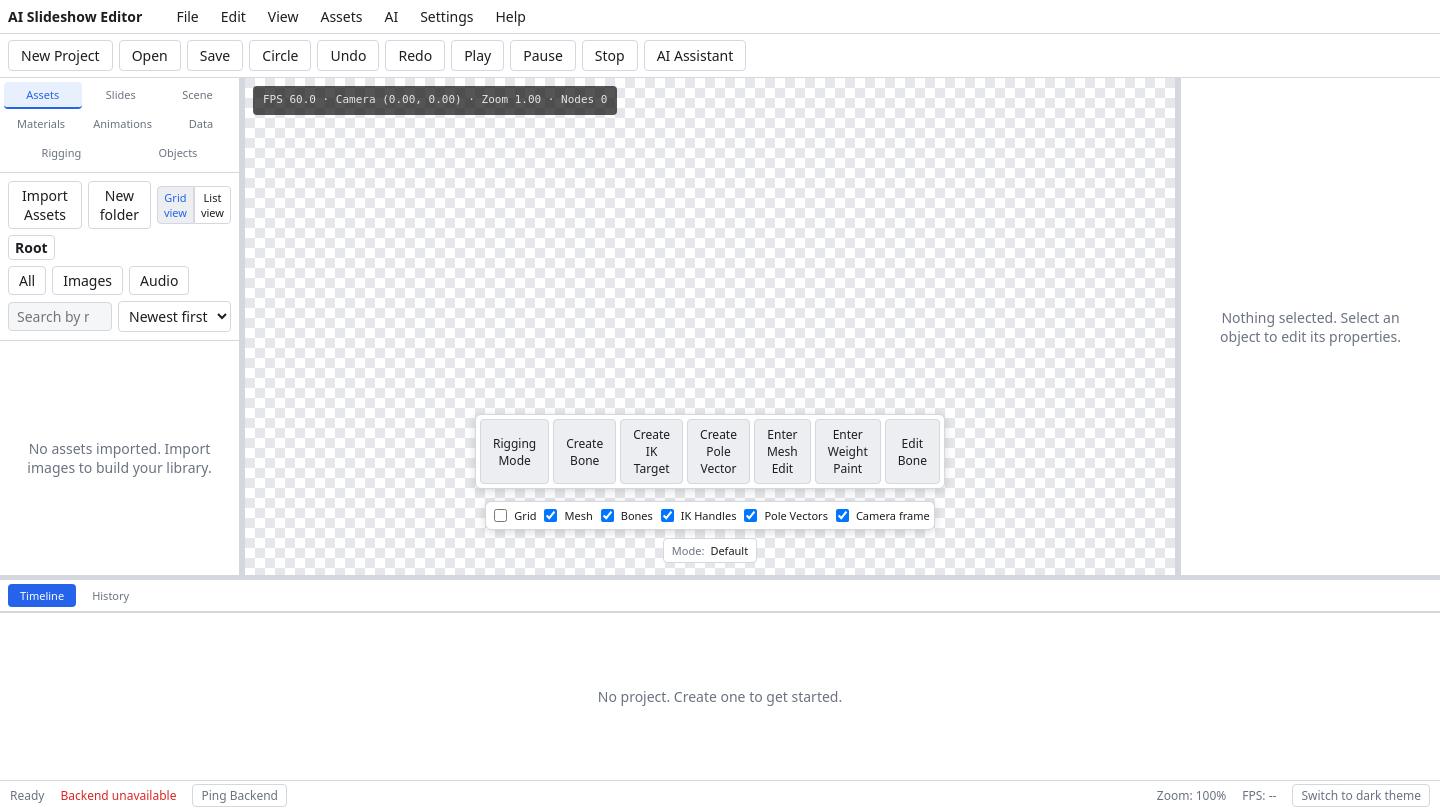
editor shell › hides the debug panel by default and toggles it from the Settings menu
The width and height of the screenshot is (1440, 810).
Click the button "Settings". click: (447, 16)
box: [410, 4, 484, 29]
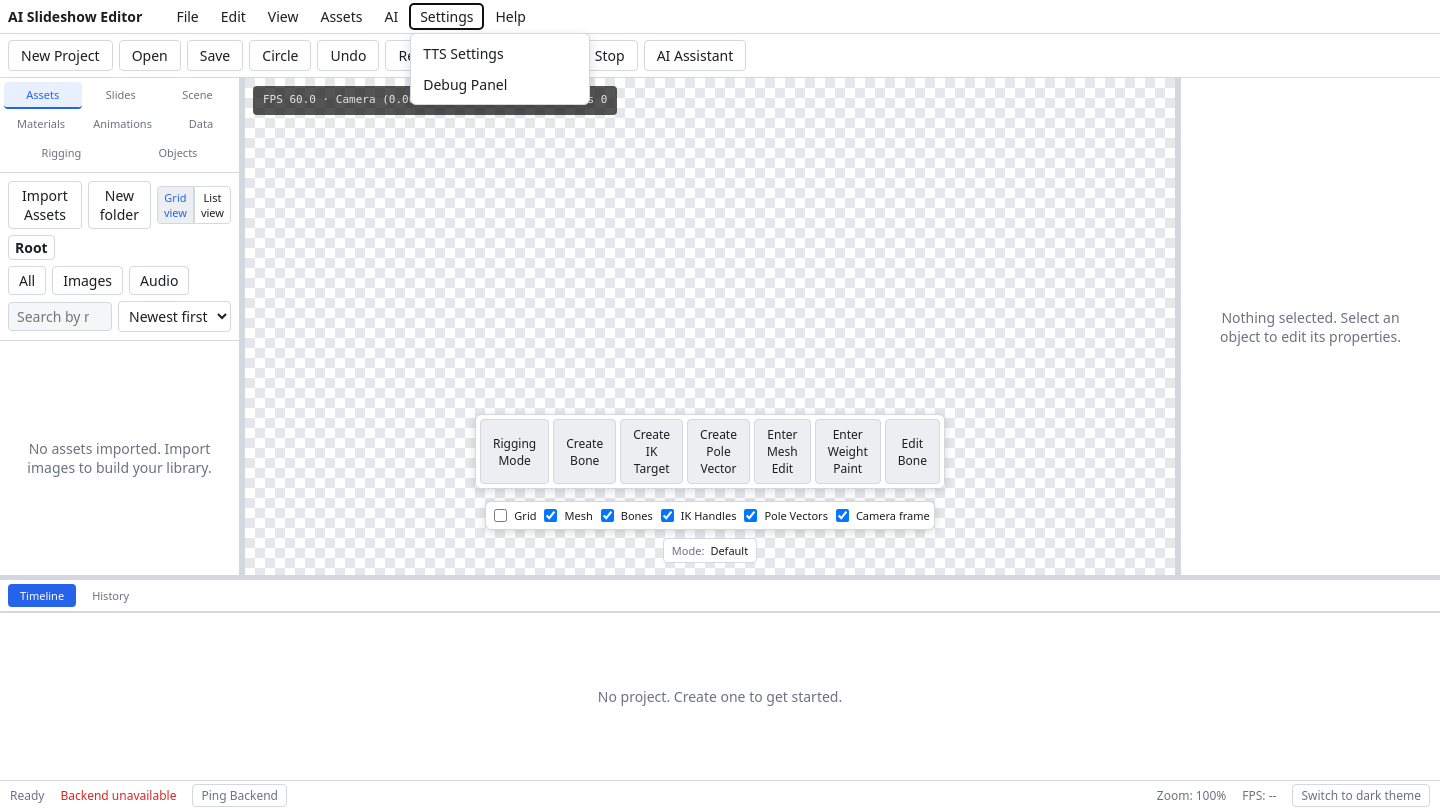
Click the menu item "Debug Panel". click: (500, 84)
box: [411, 69, 589, 100]
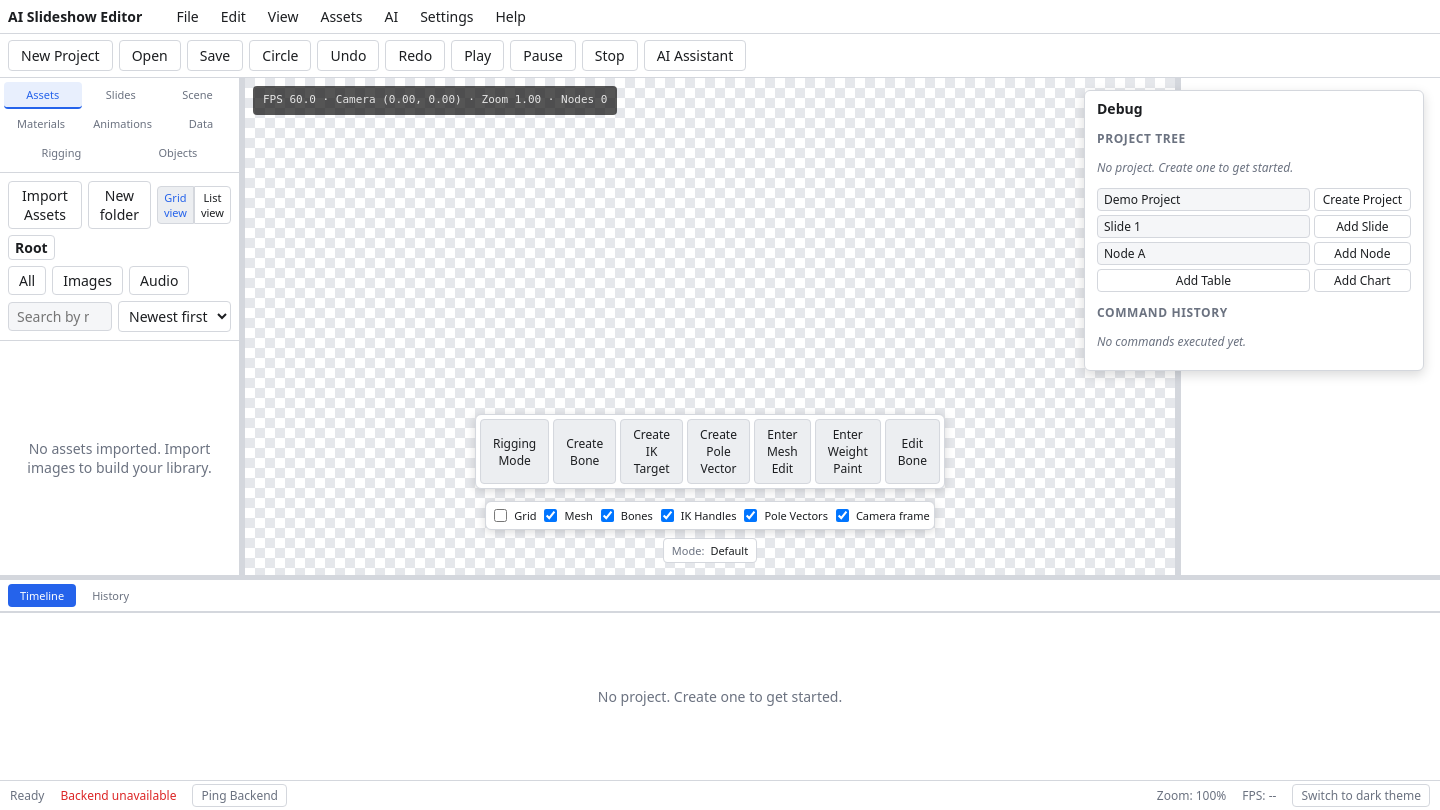
Now the element with class "debug-panel" is shown, box [1084, 90, 1424, 371]
